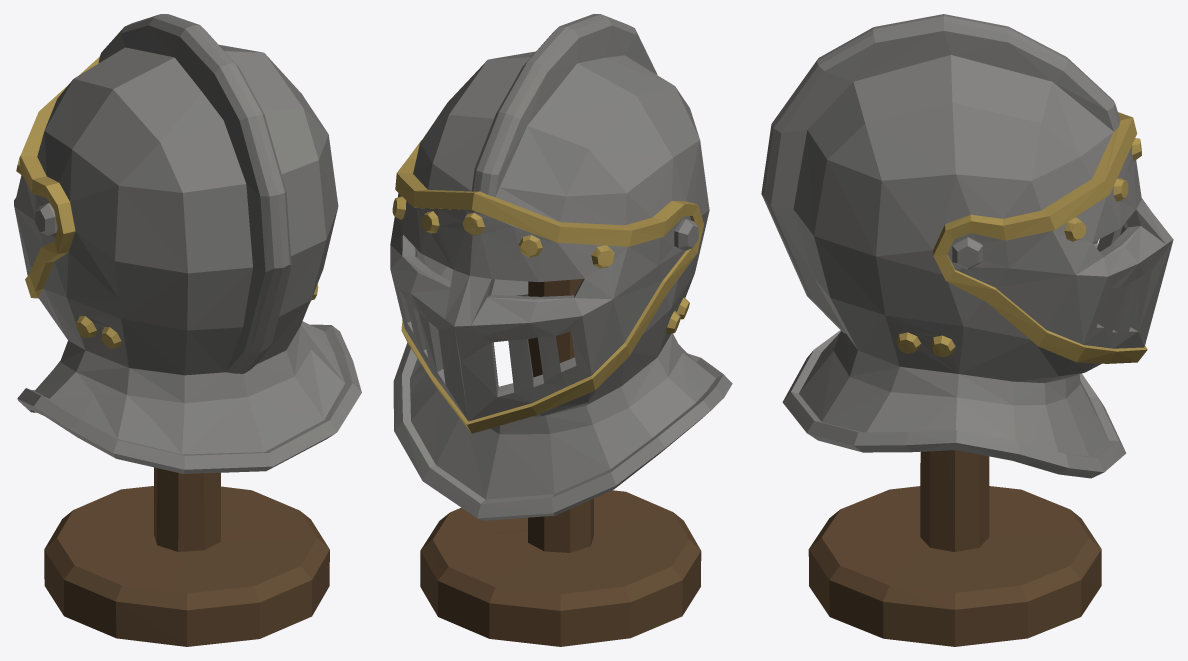
Rendered from KnightHelmetOnStand.fbx.
3 views of the same model, side by side, from view 1: azimuth 30°, elevation 25°; view 2: azimuth 150°, elevation 25°; view 3: azimuth 270°, elevation 25° (orthographic). The views are drawn at different scales.
Visible parts, largest first — view 1: KnightHelmetOnStand; view 2: KnightHelmetOnStand; view 3: KnightHelmetOnStand.
Part boxes in pixels (x1=…): KnightHelmetOnStand: x1=14, y1=14, x2=361, y2=646; KnightHelmetOnStand: x1=390, y1=14, x2=732, y2=646; KnightHelmetOnStand: x1=761, y1=14, x2=1173, y2=646.
Size of the model in its own units: 0.3214 by 0.371 by 0.5663.
